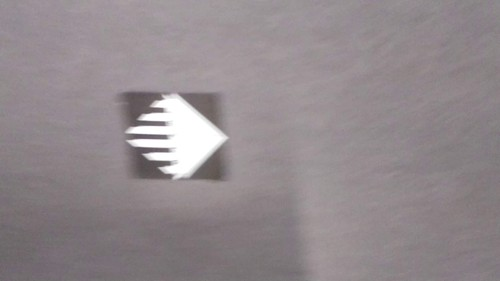misgoods: (118, 91, 236, 184)
